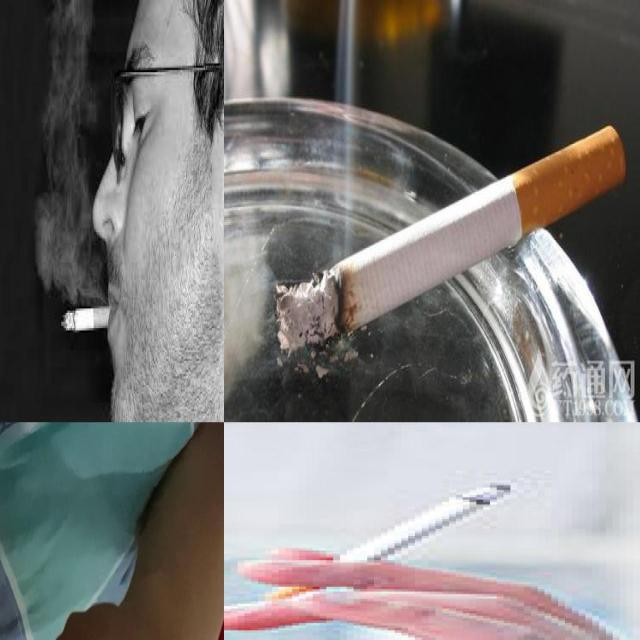smoking: (276, 122, 628, 354), (260, 483, 516, 603), (61, 304, 118, 334)
